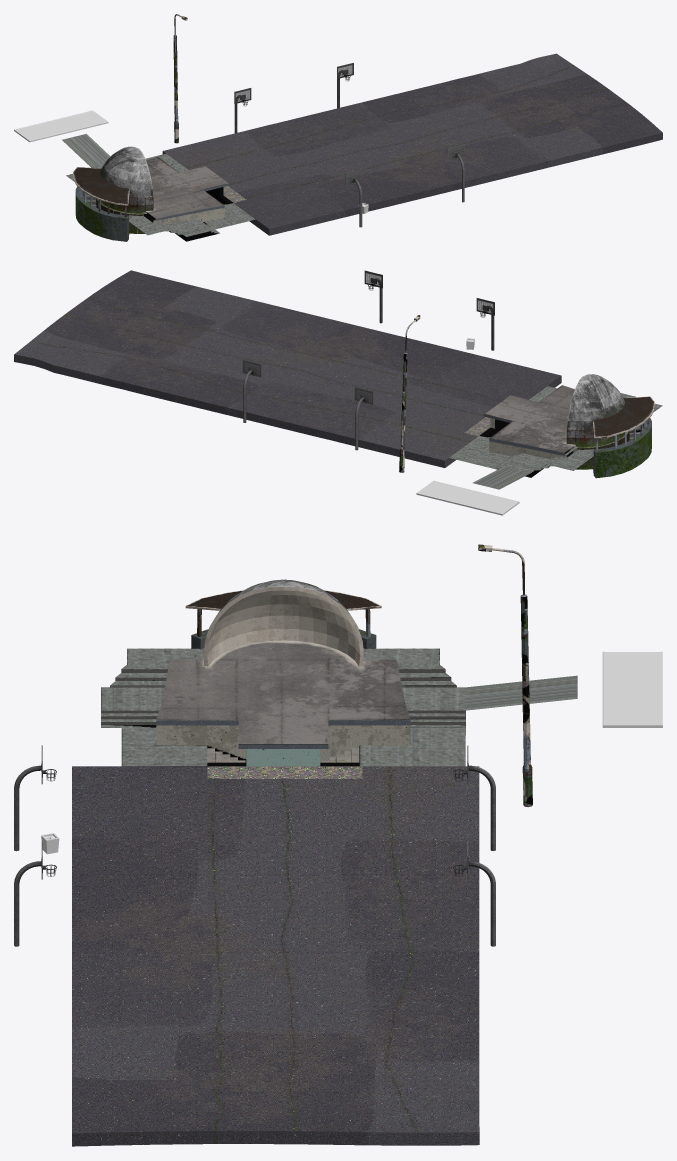
The picture shows the model from 3 angles, top to bottom: view 1: azimuth 30°, elevation 25°; view 2: azimuth 150°, elevation 25°; view 3: azimuth 270°, elevation 25°; orthographic projection. The views are drawn at different scales.
Visible parts, largest first — view 1: Plane.003, Plane.007, Sphere, asphalt, Plane.002, Cube.007, Plane.006, Plane.001, Plane.005; view 2: Plane.003, Plane.007, Sphere, asphalt, Plane.002, Cube.007, Plane.001, Plane.004, Plane.005, Plane.006; view 3: Plane.003, Plane.007, Sphere, asphalt, Plane.002, Cube.007.
Boxes of the visible parts, left/top/right/bottom form: Plane.003: left=162, top=53, right=662, bottom=235; Plane.007: left=66, top=153, right=255, bottom=241; Sphere: left=73, top=146, right=153, bottom=241; asphalt: left=14, top=110, right=108, bottom=142; Plane.002: left=62, top=134, right=110, bottom=167; Cube.007: left=173, top=14, right=187, bottom=143; Plane.006: left=345, top=169, right=362, bottom=227; Plane.001: left=234, top=88, right=251, bottom=133; Plane.005: left=448, top=144, right=464, bottom=202; Plane.003: left=14, top=270, right=561, bottom=467; Plane.007: left=449, top=385, right=662, bottom=477; Sphere: left=566, top=374, right=654, bottom=478; asphalt: left=416, top=480, right=519, bottom=515; Plane.002: left=473, top=466, right=530, bottom=489; Cube.007: left=399, top=315, right=420, bottom=472; Plane.001: left=354, top=387, right=373, bottom=450; Plane.004: left=242, top=359, right=261, bottom=422; Plane.005: left=364, top=270, right=382, bottom=323; Plane.006: left=476, top=298, right=494, bottom=350; Plane.003: left=72, top=766, right=479, bottom=1146; Plane.007: left=101, top=640, right=465, bottom=766; Sphere: left=185, top=579, right=381, bottom=666; asphalt: left=602, top=651, right=662, bottom=727; Plane.002: left=466, top=675, right=577, bottom=710; Cube.007: left=478, top=544, right=532, bottom=807.
Size of the model in its own units: 62.71 by 16.13 by 35.03.
Materials: 5 (5 with a texture image).
